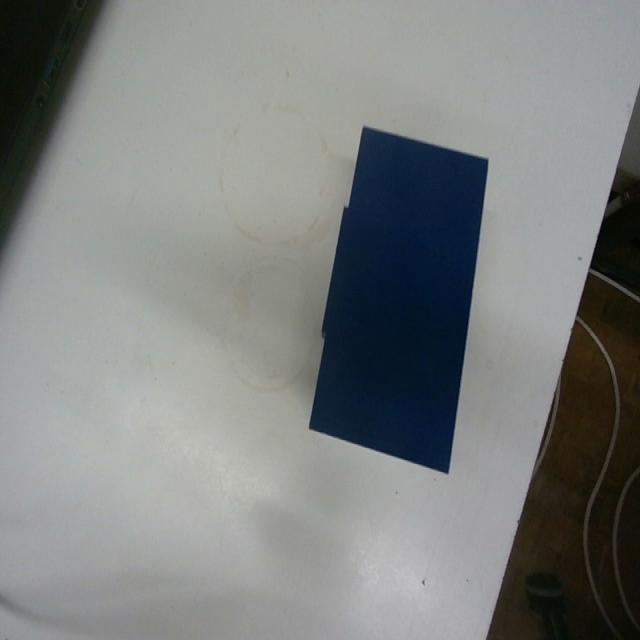Blue Cuboid: (306, 121, 489, 475)
